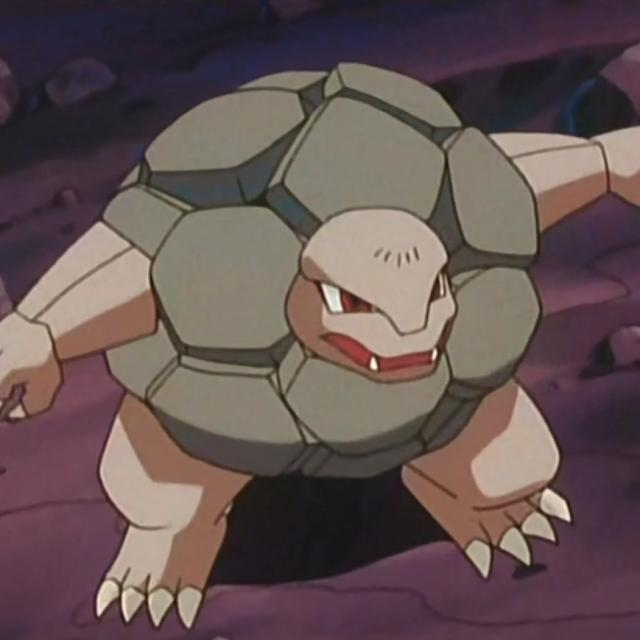Golem: (0, 50, 640, 626)
